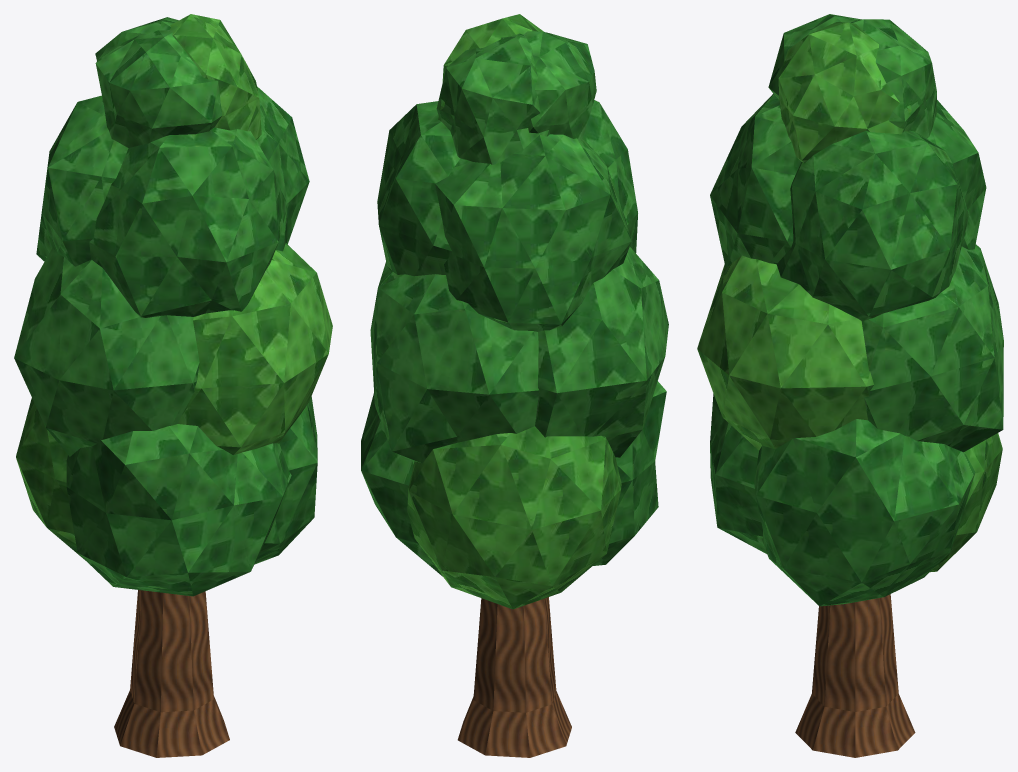
Rendered from tree_teak.glb.
3 views of the same model, side by side, from view 1: azimuth 30°, elevation 25°; view 2: azimuth 150°, elevation 25°; view 3: azimuth 270°, elevation 25° (orthographic).
Visible parts, largest first — view 1: tree_teak; view 2: tree_teak; view 3: tree_teak.
Boxes of the visible parts, x1=… form: tree_teak: x1=14, y1=14, x2=332, y2=757; tree_teak: x1=361, y1=14, x2=668, y2=757; tree_teak: x1=697, y1=14, x2=1003, y2=757.
Bounding box in the file's own units: 2.65 × 6.45 × 2.5.
3 materials, 3 textured.
